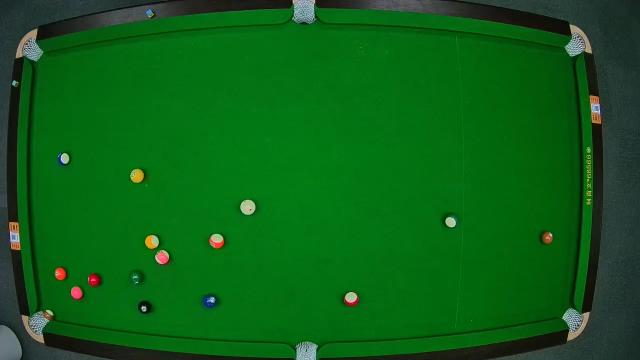bag1: (22, 39, 40, 61)
bag2: (292, 1, 316, 23)
bag3: (568, 34, 586, 56)
bag4: (28, 312, 50, 334)
bag5: (294, 340, 318, 360)
bag6: (564, 309, 584, 331)
ball0: (240, 200, 256, 216)
ball1: (130, 168, 144, 184)
ball10: (57, 151, 71, 165)
ball11: (344, 291, 360, 307)
ball12: (154, 249, 170, 265)
ball13: (210, 233, 224, 249)
ball14: (444, 214, 460, 229)
ball15: (44, 308, 54, 322)
ball2: (202, 294, 218, 308)
ball3: (89, 274, 101, 286)
ball4: (70, 286, 84, 300)
ball5: (54, 266, 66, 282)
ball6: (128, 270, 144, 284)
ball7: (540, 231, 554, 245)
ball8: (137, 300, 153, 314)
ball9: (145, 234, 159, 250)
